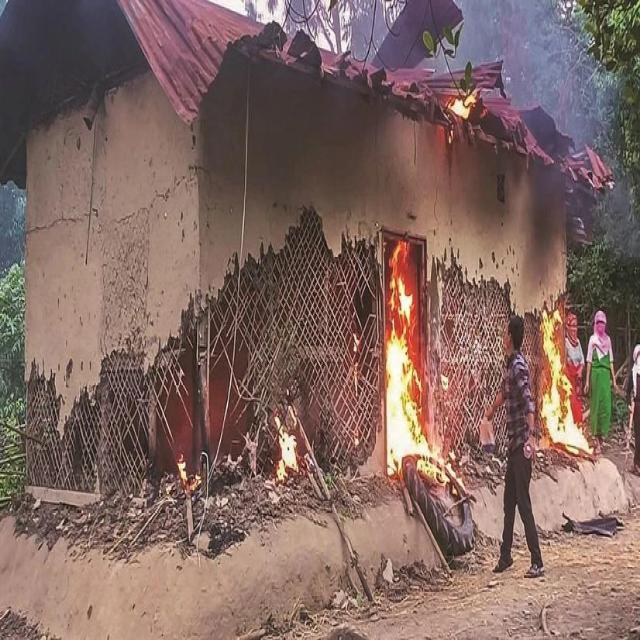fire: (385, 245, 430, 469), (540, 310, 587, 453)
